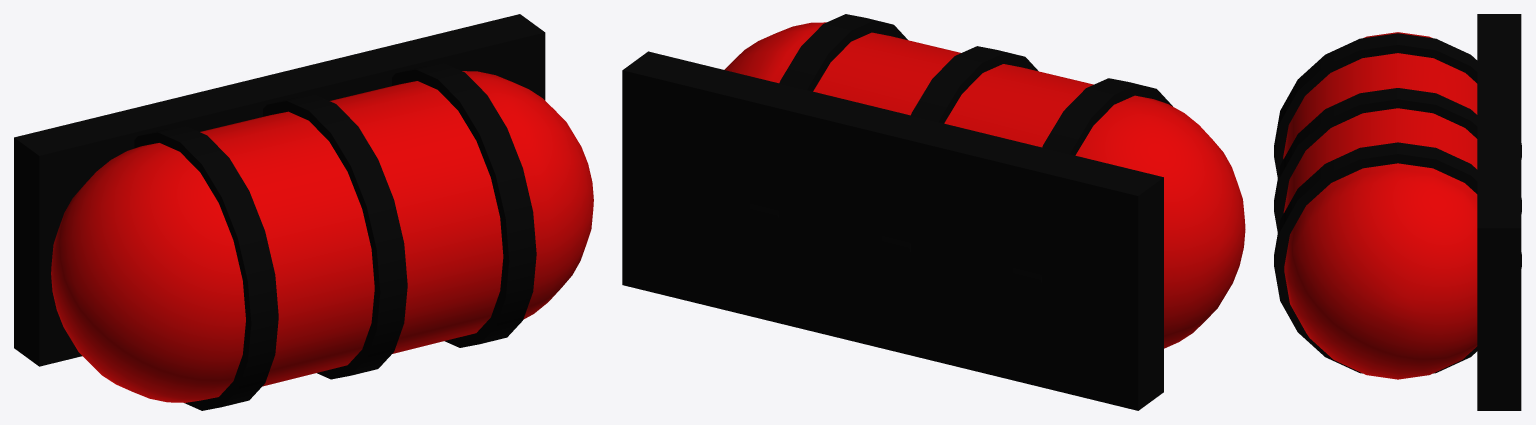
File: _umiere.fbx
3 renders of one model, left to right at view 1: azimuth 30°, elevation 25°; view 2: azimuth 150°, elevation 25°; view 3: azimuth 270°, elevation 25°, orthographic. The views are drawn at different scales.
Visible parts, largest first — view 1: lumière; view 2: lumière; view 3: lumière.
Part boxes in pixels (left/top/right/bottom): lumière: left=14, top=14, right=593, bottom=410; lumière: left=622, top=14, right=1245, bottom=410; lumière: left=1274, top=14, right=1521, bottom=410.
Bounding box in the file's own units: 0.7124 × 0.3374 × 0.3374.
